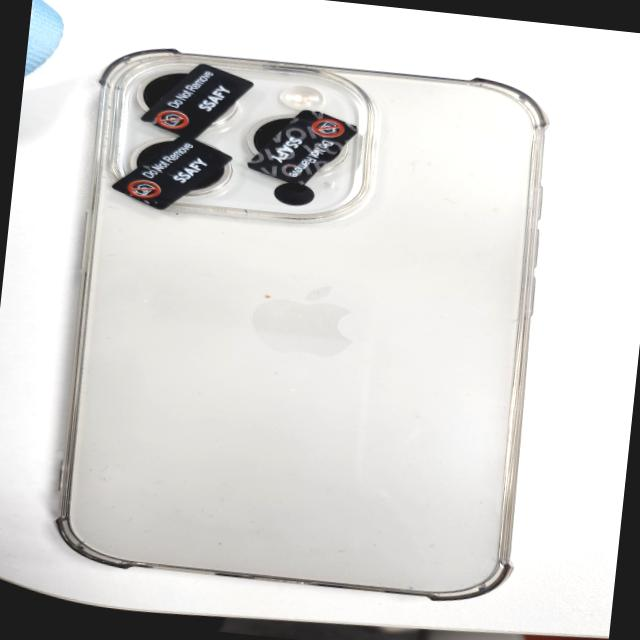phone: (50, 37, 564, 606)
removed_sticker: (250, 103, 358, 187)
sticker: (113, 132, 232, 212), (141, 60, 254, 142)
